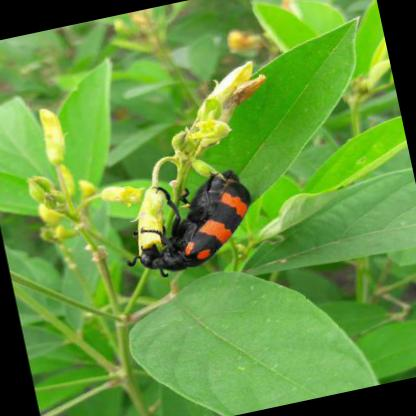blister beetle: (137, 170, 252, 274)
